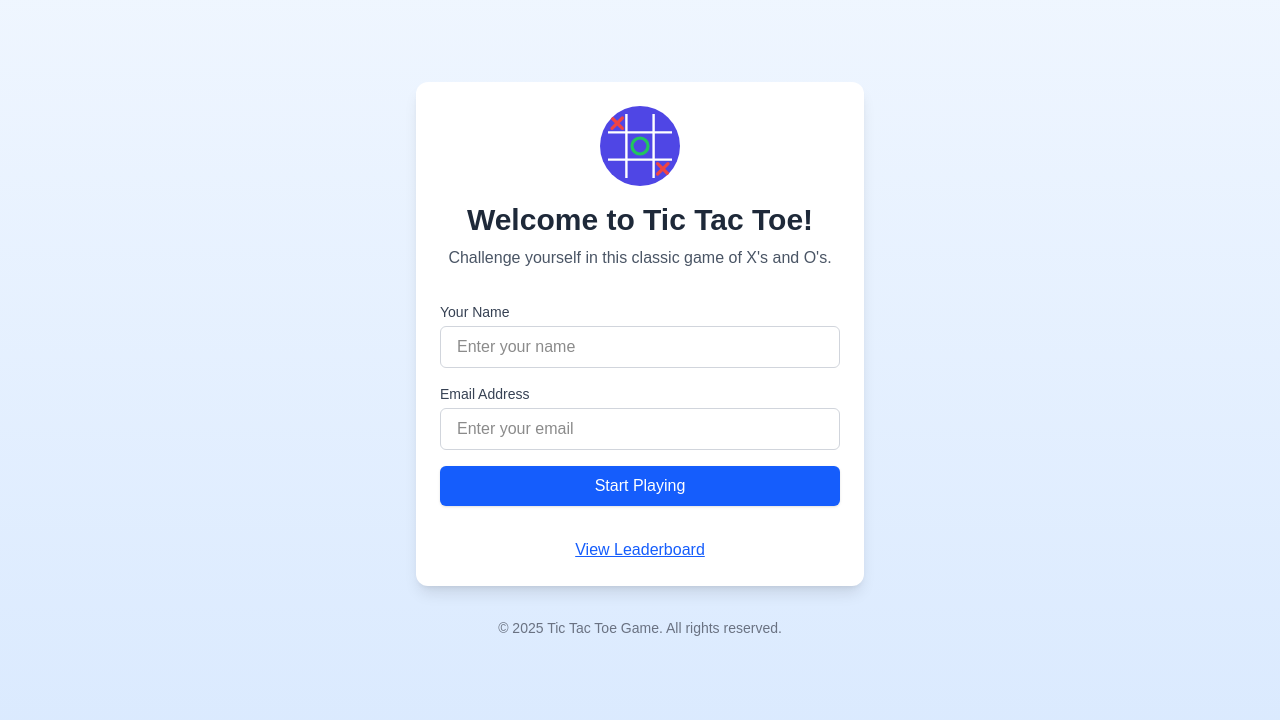
Test: WelcomePage › shows validation error when submitting empty form
The image size is (1280, 720).
Note: Submit the form without filling it
Click the button "Start Playing" at (640,486), box left=440, top=466, right=840, bottom=506
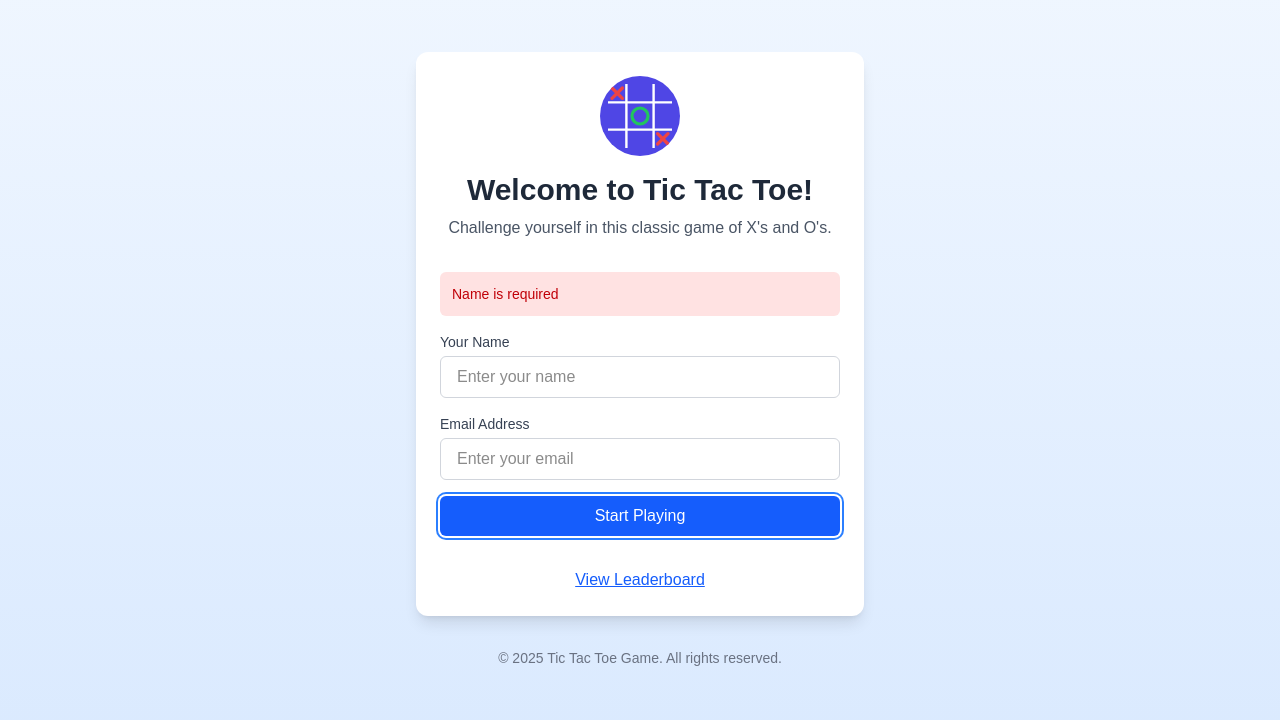
Result: the text "Name is required" is shown at left=440, top=272, right=840, bottom=316
